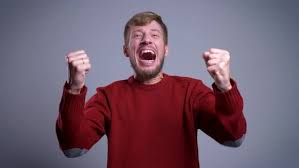white_male: (112, 12, 189, 77)
